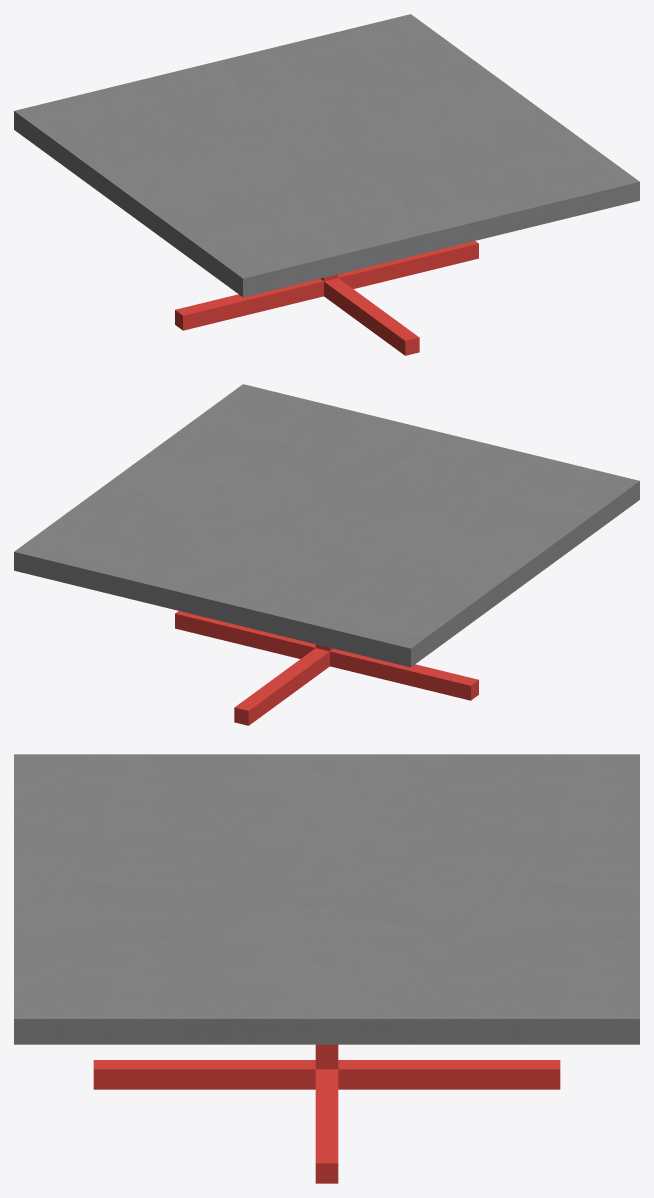
File: table.fbx
3 views of the same model, one above another, from view 1: azimuth 30°, elevation 25°; view 2: azimuth 150°, elevation 25°; view 3: azimuth 270°, elevation 25° (orthographic). The views are drawn at different scales.
Visible parts, largest first — view 1: Cube.005; view 2: Cube.005; view 3: Cube.005.
Boxes of the visible parts, box(x1,y1,x2,y2) form: Cube.005: box(14, 14, 639, 355); Cube.005: box(14, 384, 639, 725); Cube.005: box(14, 754, 639, 1183).
Size of the model in its own units: 72.64 by 25.4 by 72.64.
